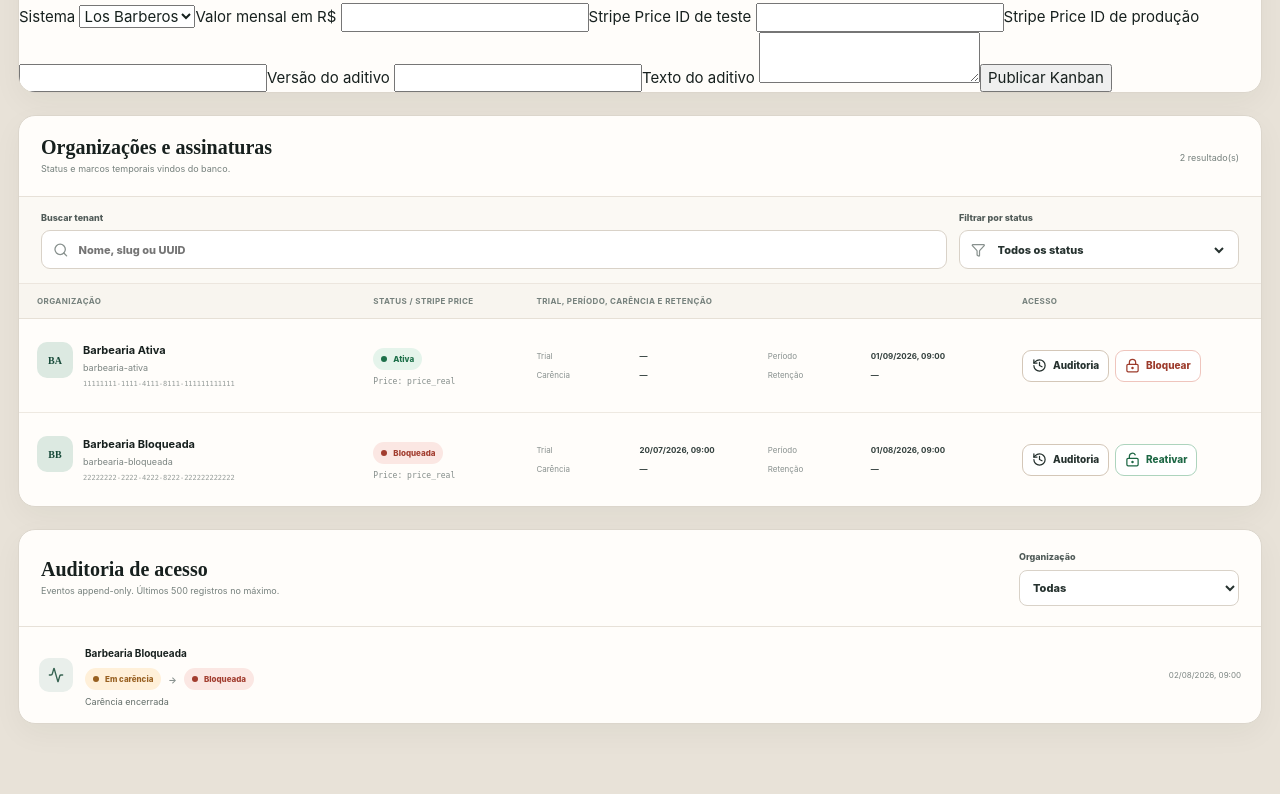
Scenario: connected platform admin › mantém diálogo e mostra erro seguro quando RPC falha
(page scrolled)
Click the button with aria-label "Reativar acesso de Barbearia Bloqueada".
click(1156, 460)  # box [1115,444,1197,476]
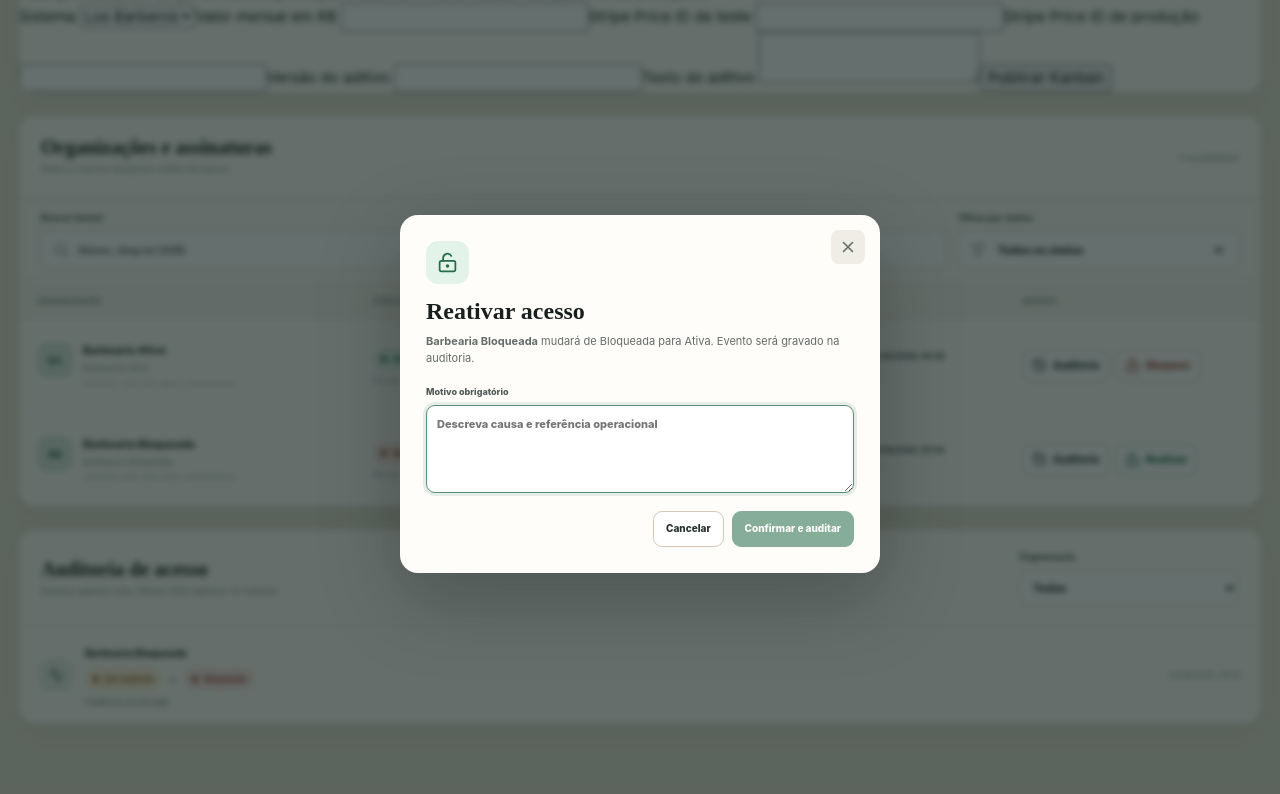
Type "Conciliação aprovada" into the text box labelled "Motivo obrigatório".
click(640, 449); type("Conciliação aprovada")  # box [426,405,854,493]
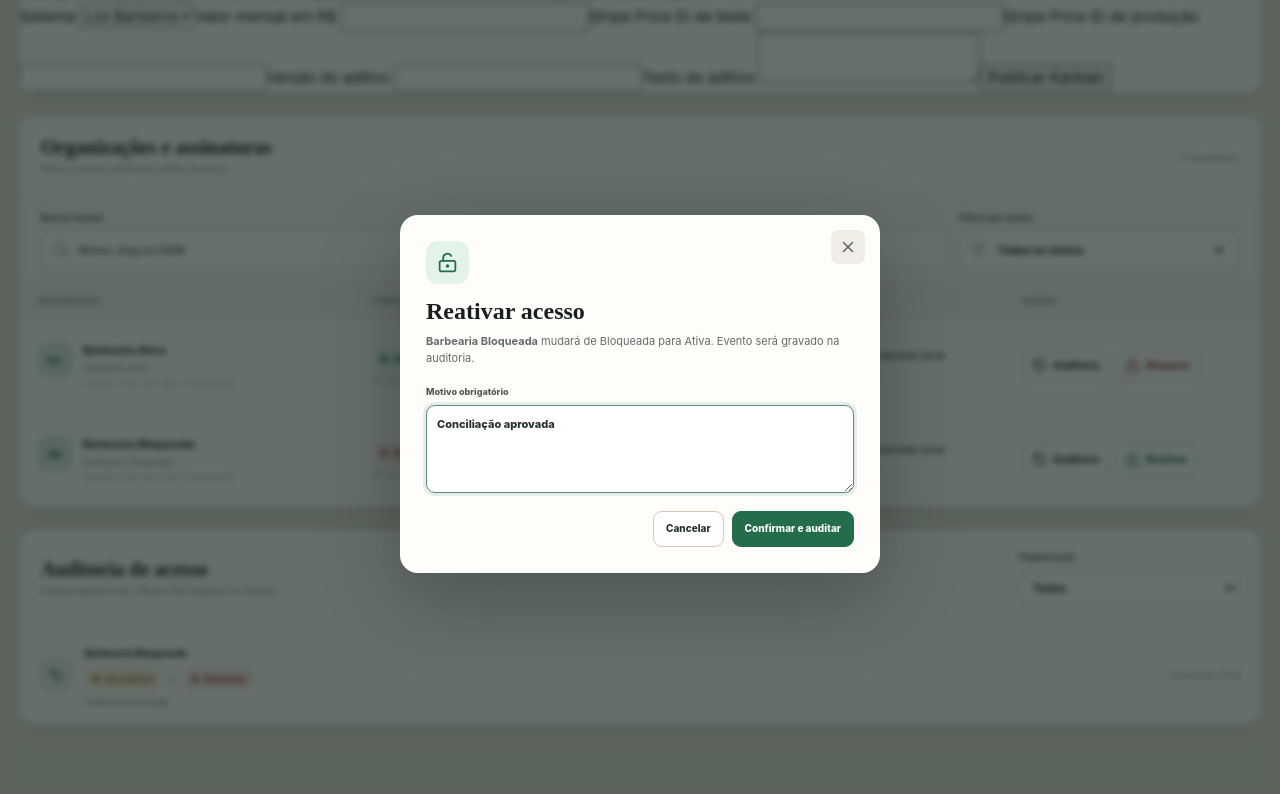
Click the button "Confirmar e auditar".
click(793, 529)  # box [732,511,854,547]
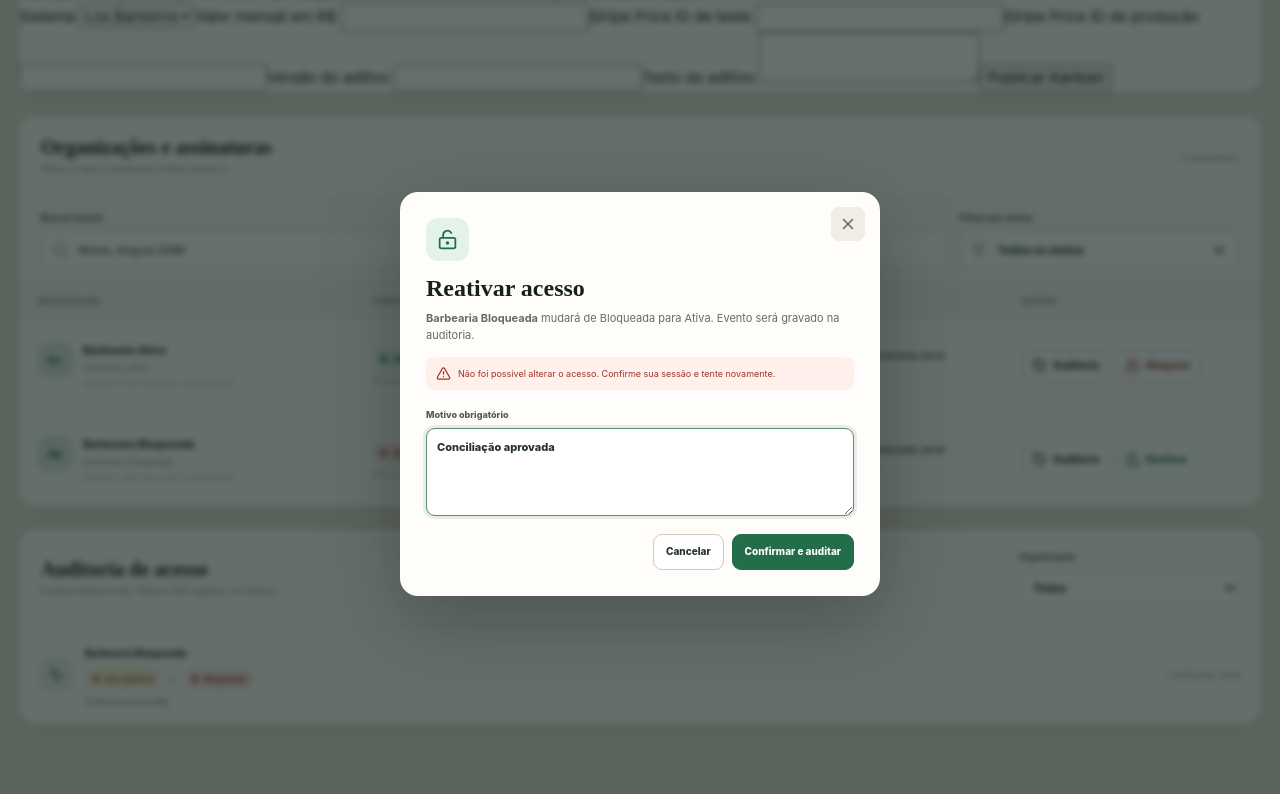
Check: the message does not show "internal provider detail", box [426,357,854,390]
Check: the dialog is shown, box [400,192,880,596]
Check: the message shows "Não foi possível alterar o acesso", box [458,368,775,379]
